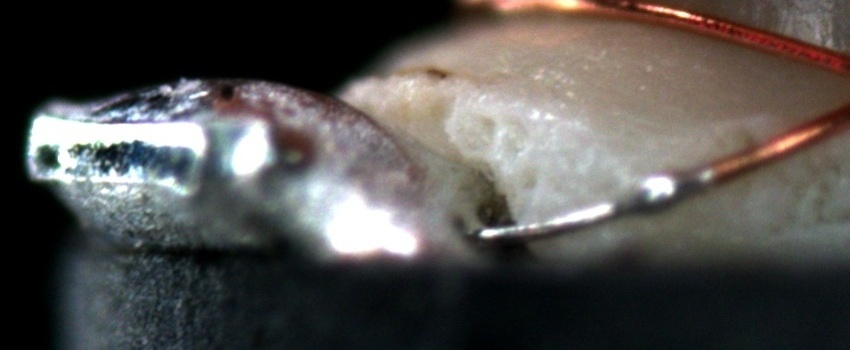TB: (621, 163, 699, 213)
TS: (479, 166, 715, 242)
TTCW: (483, 135, 784, 243)
